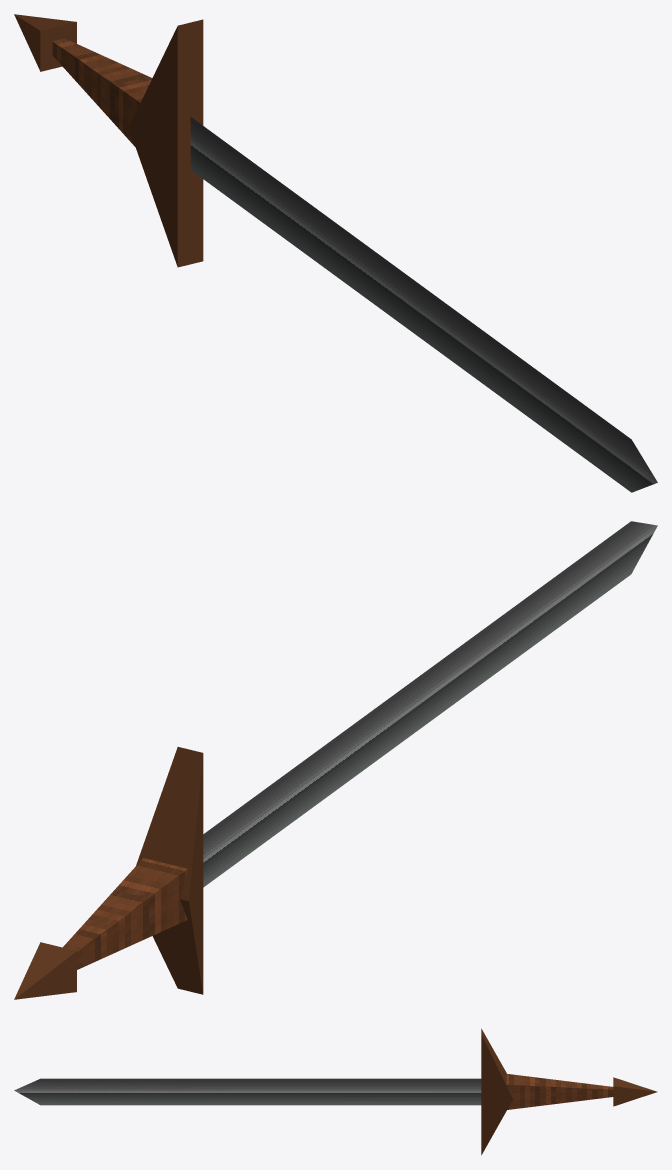
The model's file is Sword.fbx.
3 renders of one model, top to bottom at view 1: azimuth 30°, elevation 25°; view 2: azimuth 150°, elevation 25°; view 3: azimuth 270°, elevation 25°, orthographic. The views are drawn at different scales.
Parts seen in each view (by area): view 1: U3DMesh; view 2: U3DMesh; view 3: U3DMesh.
Part boxes in pixels (x1,y1,x2,y2): U3DMesh: [14, 14, 657, 492]; U3DMesh: [14, 521, 657, 999]; U3DMesh: [14, 1028, 657, 1155].
Size of the model in its own units: 0.1481 by 0.5691 by 2.75.
